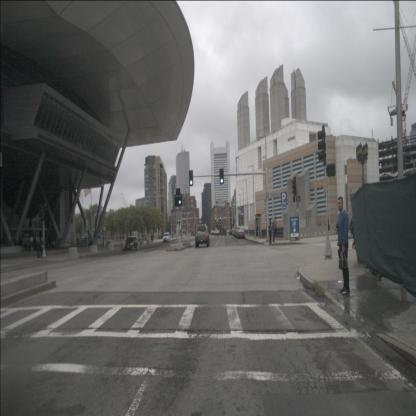human-pedestrian-adult: (337, 196, 350, 296), (272, 220, 277, 243), (268, 218, 272, 244), (36, 236, 40, 259), (40, 236, 44, 259), (30, 234, 33, 251), (151, 233, 153, 243), (152, 233, 154, 243), (76, 236, 78, 245)
vehicle-car: (195, 224, 210, 248), (125, 236, 138, 251), (237, 229, 245, 239), (163, 232, 170, 243), (221, 228, 226, 236), (214, 228, 218, 236)
